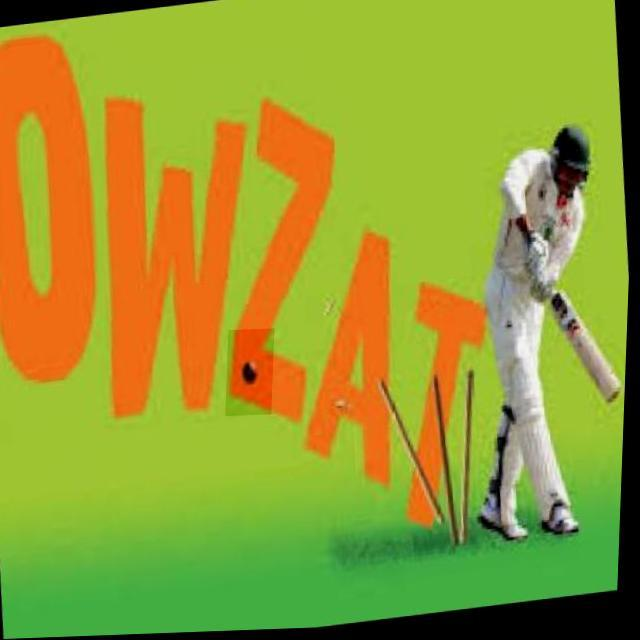-: (228, 331, 278, 418)
